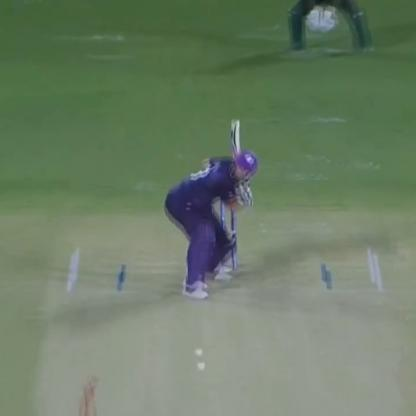ball: (193, 361, 209, 374), (190, 347, 207, 358)
pitch: (38, 237, 400, 416)
